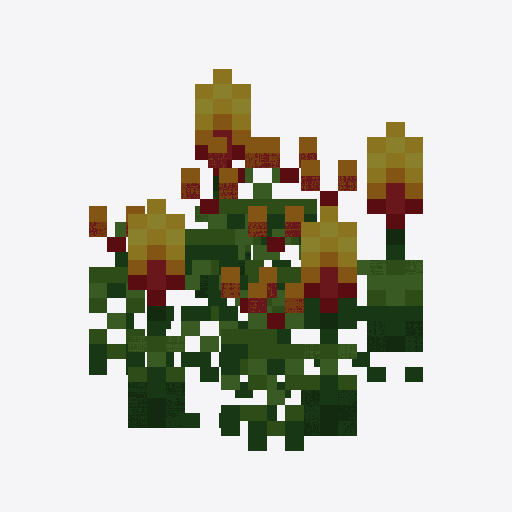
A Minecraft block model of 40 cuboids, rendered isometrically (azimuth 45°, elevation 35.3°) with the resource pack's own textures.
Parts seen in each view (by area): Stem1 (×20).
Boxes of the visible parts, box(x1,y1,x2,y2) form: Stem1 (×20): box(89, 69, 422, 450).
Size of the model in its own units: 16.12 by 16 by 15.12.